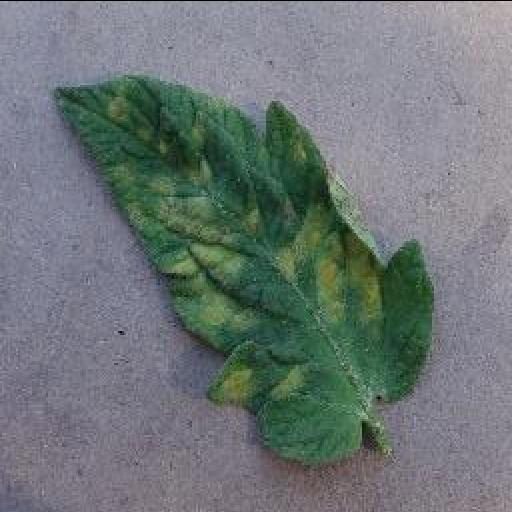disease_tomato: (52, 73, 438, 462)
